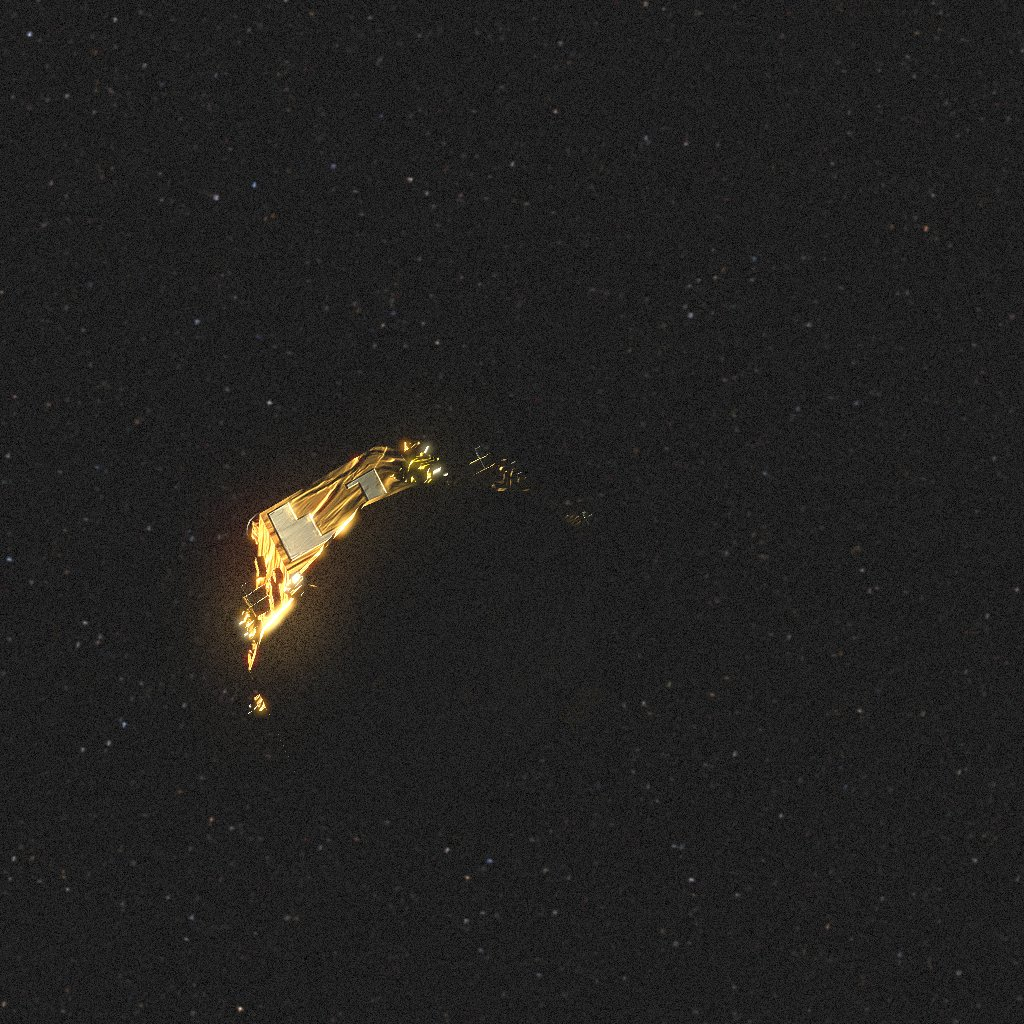lisa_pathfinder: (240, 441, 613, 816)
